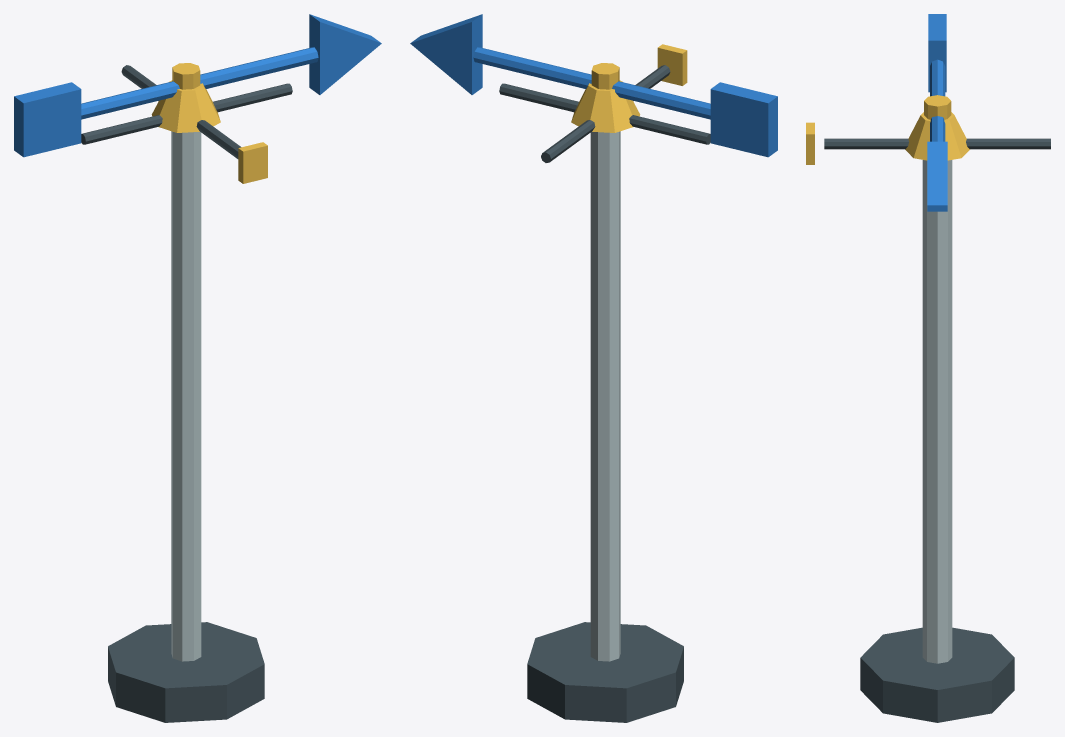
The model's file is FTF_Prop_FarmWindVane_3m.glb.
3 renders of one model, left to right at view 1: azimuth 30°, elevation 25°; view 2: azimuth 150°, elevation 25°; view 3: azimuth 270°, elevation 25°, orthographic. The views are drawn at different scales.
Visible parts, largest first — view 1: WindVane_StaticBase, WindVane_RotatingTop; view 2: WindVane_StaticBase, WindVane_RotatingTop; view 3: WindVane_StaticBase, WindVane_RotatingTop.
Part boxes in pixels (left/top/right/bottom): WindVane_StaticBase: left=81, top=65, right=292, bottom=722; WindVane_RotatingTop: left=14, top=14, right=381, bottom=157; WindVane_StaticBase: left=499, top=44, right=710, bottom=722; WindVane_RotatingTop: left=410, top=14, right=777, bottom=157; WindVane_StaticBase: left=806, top=112, right=1050, bottom=722; WindVane_RotatingTop: left=924, top=14, right=951, bottom=211.
Size of the model in its own units: 1.73 by 2.96 by 1.08.
